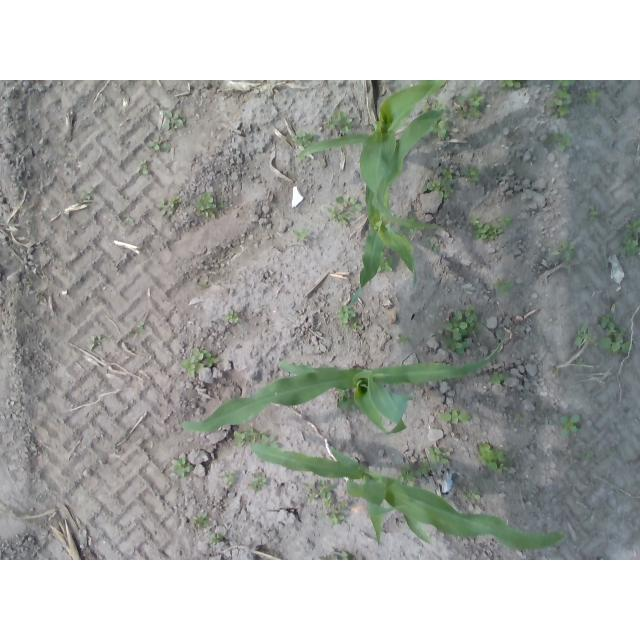Maize: (247, 441, 566, 551), (182, 341, 504, 435), (295, 80, 449, 232), (348, 109, 444, 315)
Weeds: (441, 307, 484, 358), (596, 305, 633, 356), (181, 346, 219, 378), (326, 196, 363, 227), (470, 216, 513, 242), (396, 457, 432, 488), (423, 169, 458, 200), (456, 87, 487, 122), (302, 478, 335, 510), (477, 443, 510, 474), (234, 427, 279, 449), (549, 80, 575, 118), (620, 218, 640, 258), (323, 503, 350, 526), (429, 446, 454, 470), (569, 323, 595, 346), (327, 110, 353, 133), (195, 193, 217, 220), (426, 116, 450, 140), (559, 413, 581, 439), (338, 305, 361, 329), (171, 457, 194, 480), (550, 241, 574, 263), (162, 110, 187, 131), (544, 132, 572, 150), (440, 409, 473, 423), (158, 197, 181, 216), (249, 472, 268, 494), (400, 214, 420, 234), (375, 251, 393, 273), (290, 131, 314, 147), (579, 88, 602, 104), (420, 100, 448, 113), (494, 279, 514, 297), (465, 165, 483, 183), (314, 552, 348, 561), (488, 371, 508, 386), (88, 334, 105, 350), (465, 486, 482, 502), (292, 228, 310, 243), (147, 140, 169, 152), (193, 512, 209, 528), (127, 321, 145, 335), (225, 308, 240, 324), (498, 80, 523, 89), (224, 471, 237, 487), (209, 531, 223, 545), (397, 332, 411, 345), (136, 161, 149, 175), (336, 388, 351, 400), (588, 205, 599, 221), (579, 449, 593, 461), (425, 241, 439, 252), (80, 192, 92, 201), (219, 201, 228, 210), (576, 358, 586, 366), (514, 412, 522, 420), (123, 218, 134, 223)
